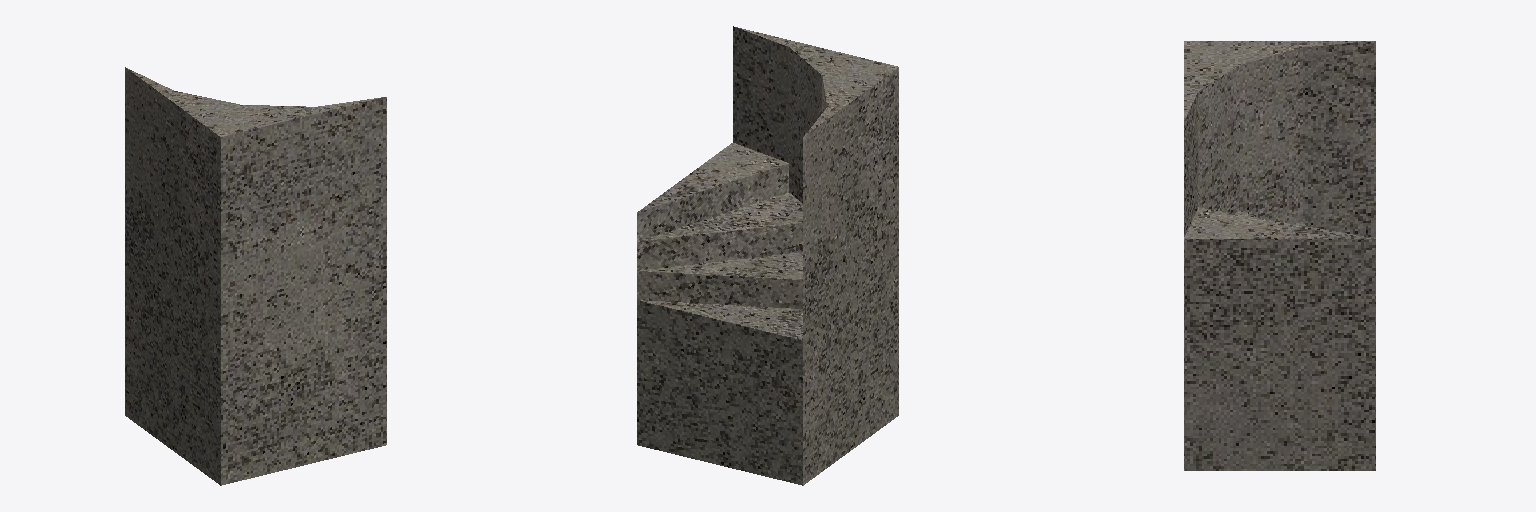
3 views of the same model, side by side, from view 1: azimuth 30°, elevation 25°; view 2: azimuth 150°, elevation 25°; view 3: azimuth 270°, elevation 25° (orthographic).
Size of the model in its own units: 1 by 2 by 1.
1 materials, 1 textured.